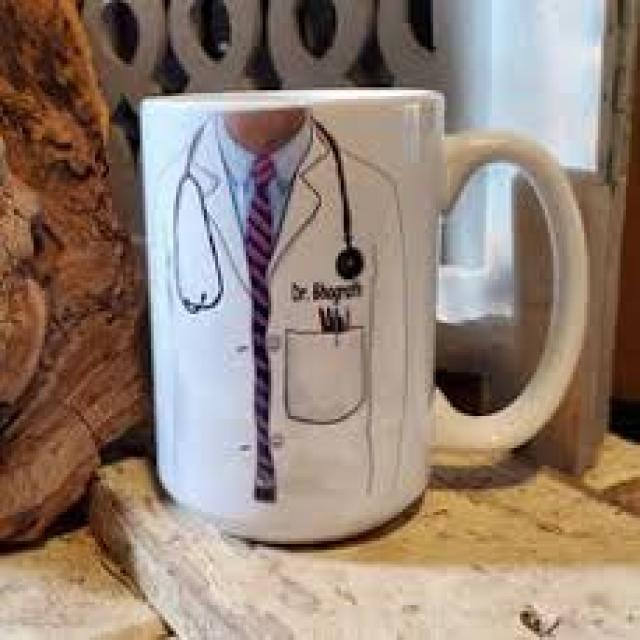taza: (116, 73, 596, 550)
